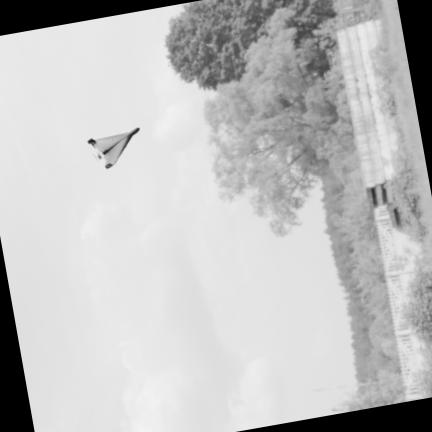Shahed: (87, 127, 140, 168)
